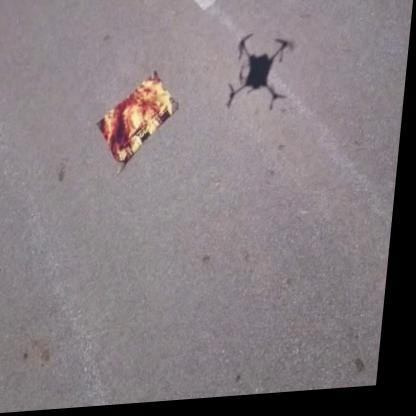fire-poster: (94, 68, 185, 179)
